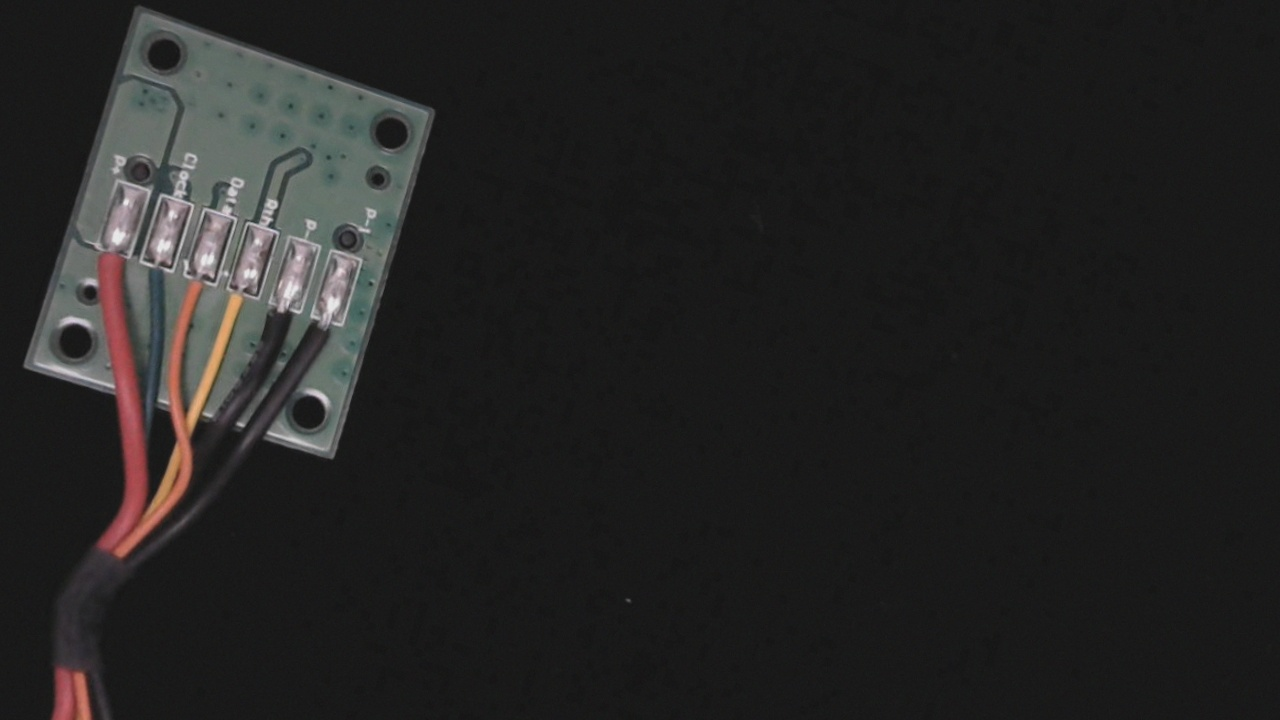Black: (250, 281, 305, 365)
Black1: (295, 297, 353, 380)
Green: (121, 239, 182, 323)
Orange: (163, 255, 223, 344)
Red: (75, 224, 137, 311)
Yellow: (203, 264, 266, 356)
